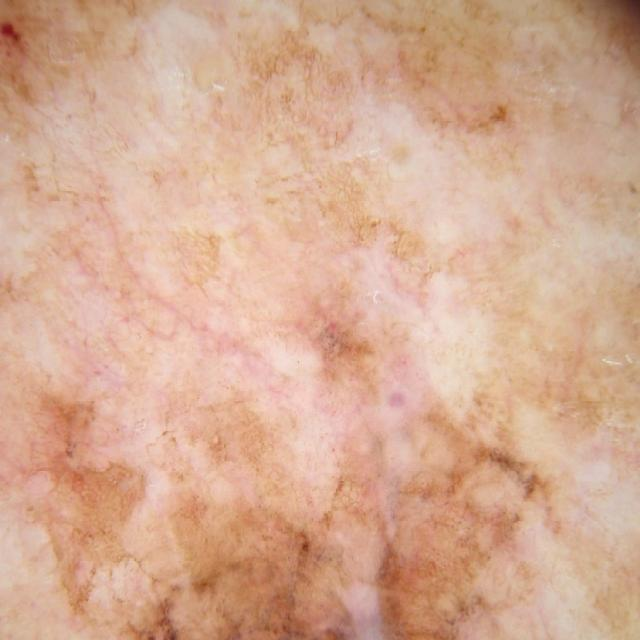Melanoma: (0, 101, 610, 640)
